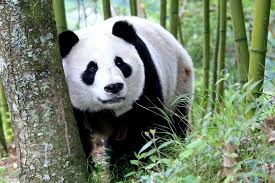panda: (50, 16, 208, 165)
